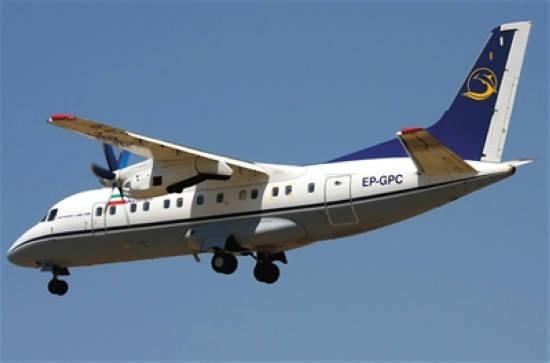airplane: (5, 20, 539, 298)
